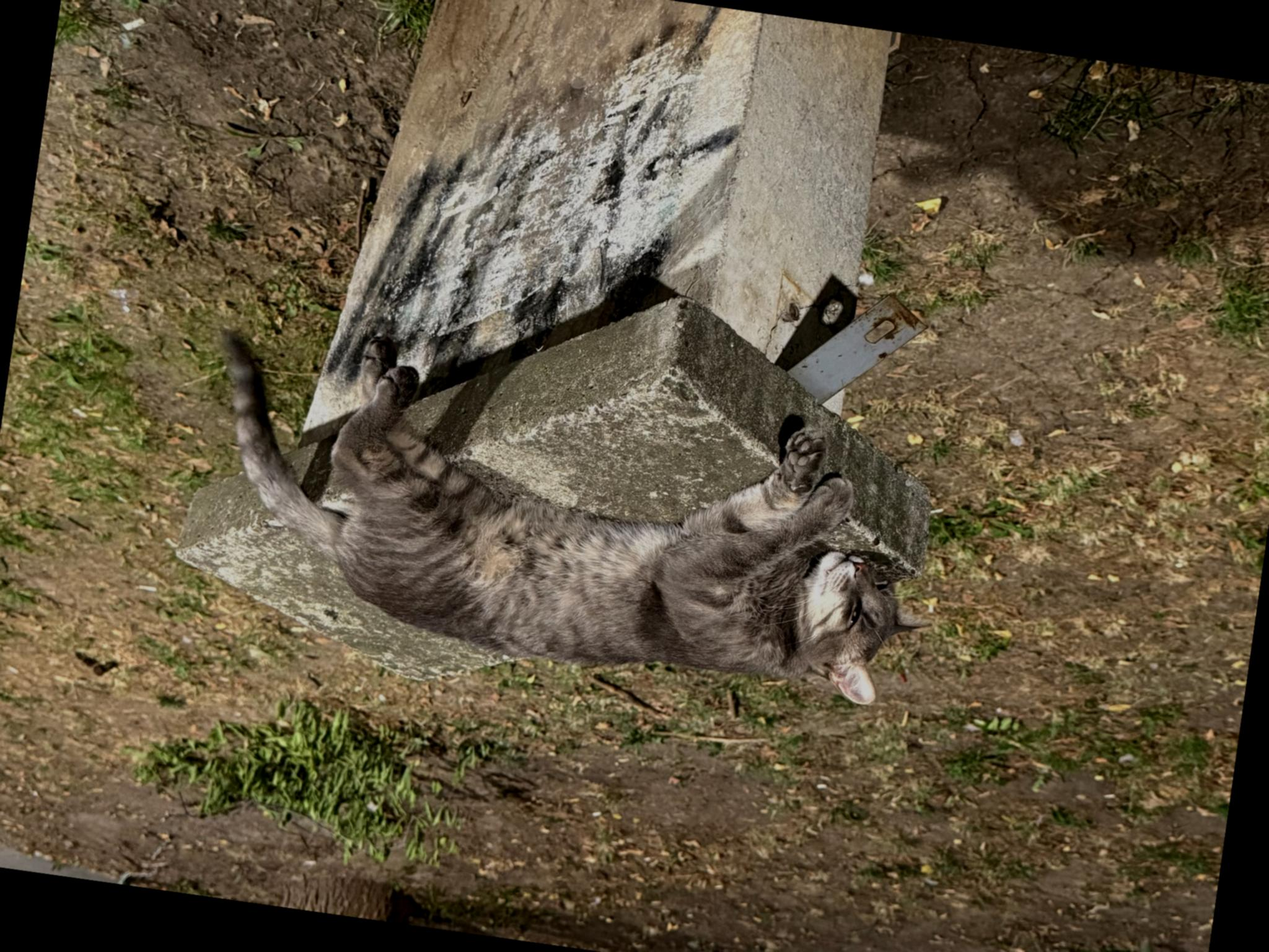macka: (187, 317, 928, 712)
